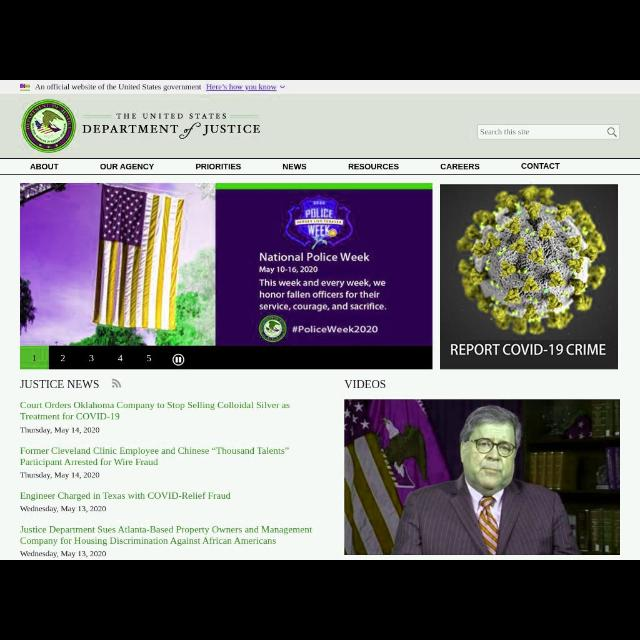icon: (172, 354, 184, 366), (112, 379, 121, 388), (608, 127, 616, 137), (280, 85, 284, 89)
image: (21, 183, 432, 345), (344, 400, 620, 554), (440, 184, 618, 370), (22, 99, 76, 153), (20, 83, 30, 91)
input: (478, 124, 620, 140)
link: (206, 85, 278, 92)
multitab: (1, 160, 640, 174)
pageindicator: (20, 346, 188, 369)
text: (84, 123, 260, 139), (20, 446, 288, 456), (21, 402, 290, 411), (20, 526, 312, 534), (21, 538, 276, 546), (35, 84, 276, 92), (21, 493, 231, 501), (21, 459, 158, 467), (20, 412, 120, 420), (20, 379, 99, 388), (20, 550, 106, 558), (116, 113, 226, 119), (20, 472, 100, 480), (20, 506, 106, 512), (20, 428, 100, 434), (345, 379, 385, 388), (100, 164, 154, 170), (480, 129, 530, 135), (349, 164, 399, 170), (196, 163, 240, 169), (441, 164, 479, 170), (522, 163, 560, 169), (30, 164, 58, 170), (284, 164, 306, 170), (146, 354, 150, 362), (118, 354, 122, 362), (61, 354, 65, 362), (89, 355, 93, 361), (32, 355, 36, 361)
toolbar: (1, 80, 640, 158)
